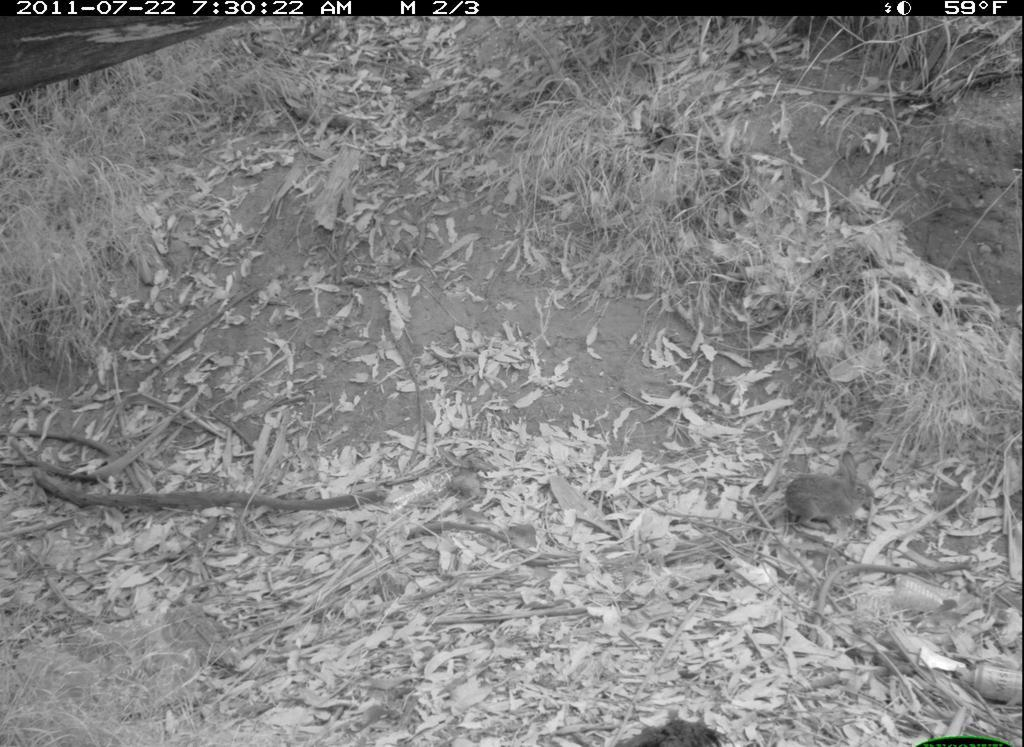rabbit: (785, 450, 879, 538)
